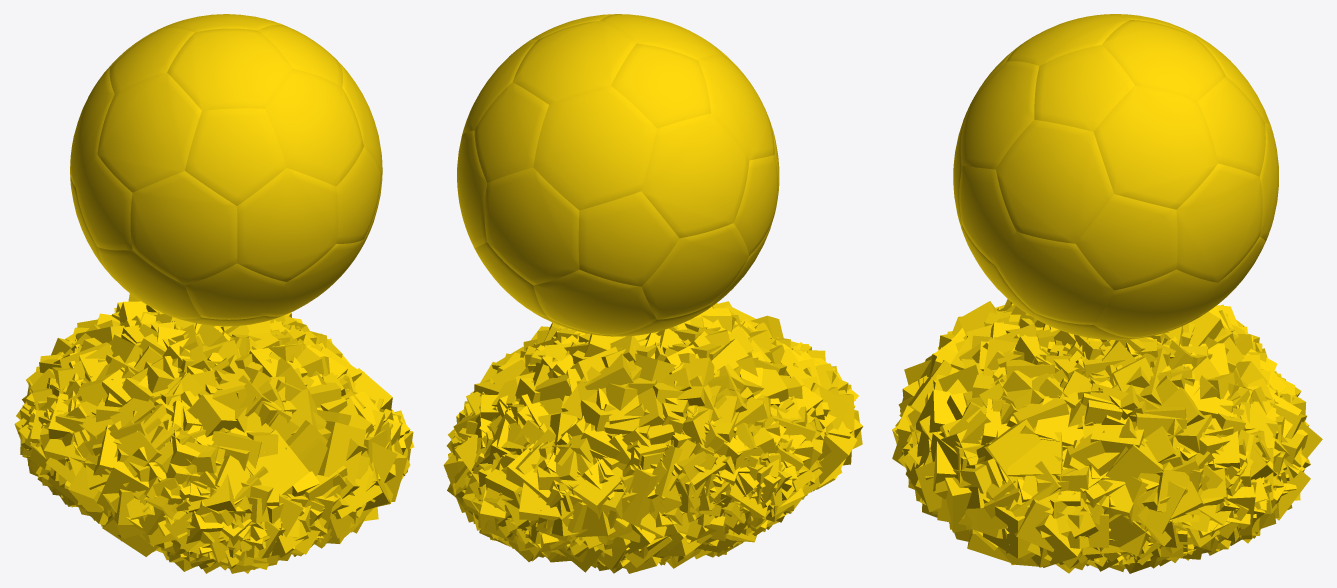
The model's file is balon_dor.glb.
3 views of the same model, side by side, from view 1: azimuth 30°, elevation 25°; view 2: azimuth 150°, elevation 25°; view 3: azimuth 270°, elevation 25° (orthographic). The views are drawn at different scales.
Visible parts, largest first — view 1: MASH1_ReproMesh_aiStandardSurface2_0_6, soccer_ball_soccer_ball_black_soccer_0_soccer_ball_black_so; view 2: soccer_ball_soccer_ball_black_soccer_0_soccer_ball_black_so, MASH1_ReproMesh_aiStandardSurface2_0_6; view 3: MASH1_ReproMesh_aiStandardSurface2_0_6, soccer_ball_soccer_ball_black_soccer_0_soccer_ball_black_so.
Boxes of the visible parts, left/top/right/bottom form: MASH1_ReproMesh_aiStandardSurface2_0_6: left=14, top=293, right=414, bottom=573; soccer_ball_soccer_ball_black_soccer_0_soccer_ball_black_so: left=70, top=14, right=382, bottom=326; soccer_ball_soccer_ball_black_soccer_0_soccer_ball_black_so: left=457, top=14, right=779, bottom=336; MASH1_ReproMesh_aiStandardSurface2_0_6: left=443, top=301, right=863, bottom=573; MASH1_ReproMesh_aiStandardSurface2_0_6: left=892, top=299, right=1322, bottom=573; soccer_ball_soccer_ball_black_soccer_0_soccer_ball_black_so: left=953, top=14, right=1278, bottom=340.
Bounding box in the file's own units: 0.3495 × 0.4803 × 0.372.
